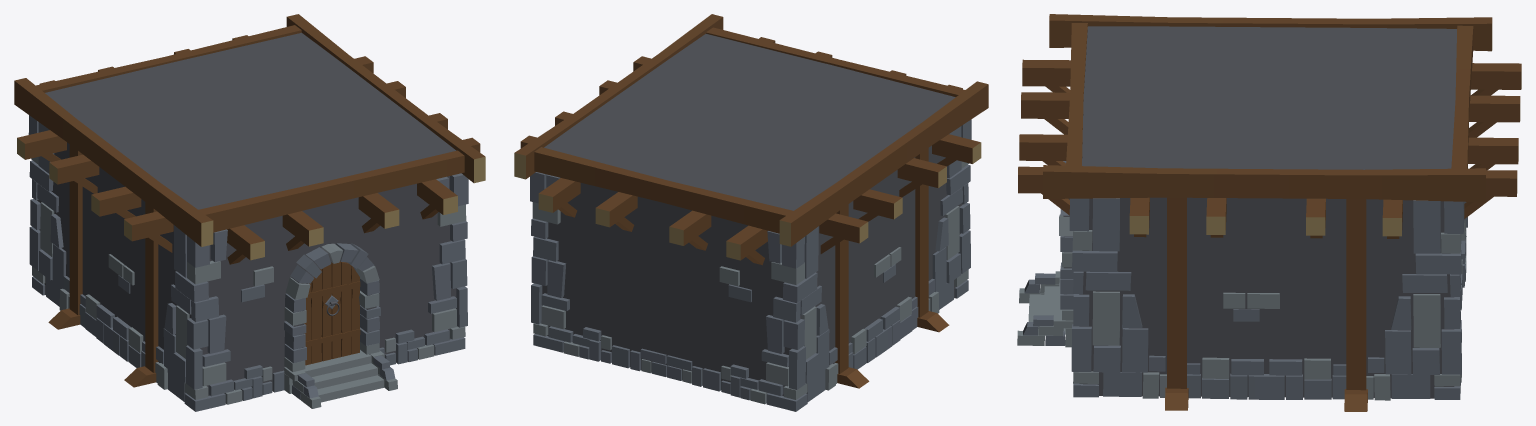
The model's file is house_4_lev2.glb.
3 renders of one model, left to right at view 1: azimuth 30°, elevation 25°; view 2: azimuth 150°, elevation 25°; view 3: azimuth 270°, elevation 25°, orthographic. The views are drawn at different scales.
Parts seen in each view (by area): view 1: house_4_lev2; view 2: house_4_lev2; view 3: house_4_lev2.
Boxes of the visible parts, x1,y1,x2,y2 form: house_4_lev2: (14, 14, 485, 411); house_4_lev2: (514, 14, 988, 411); house_4_lev2: (1017, 14, 1521, 411).
Size of the model in its own units: 6.53 by 3.58 by 7.14.
